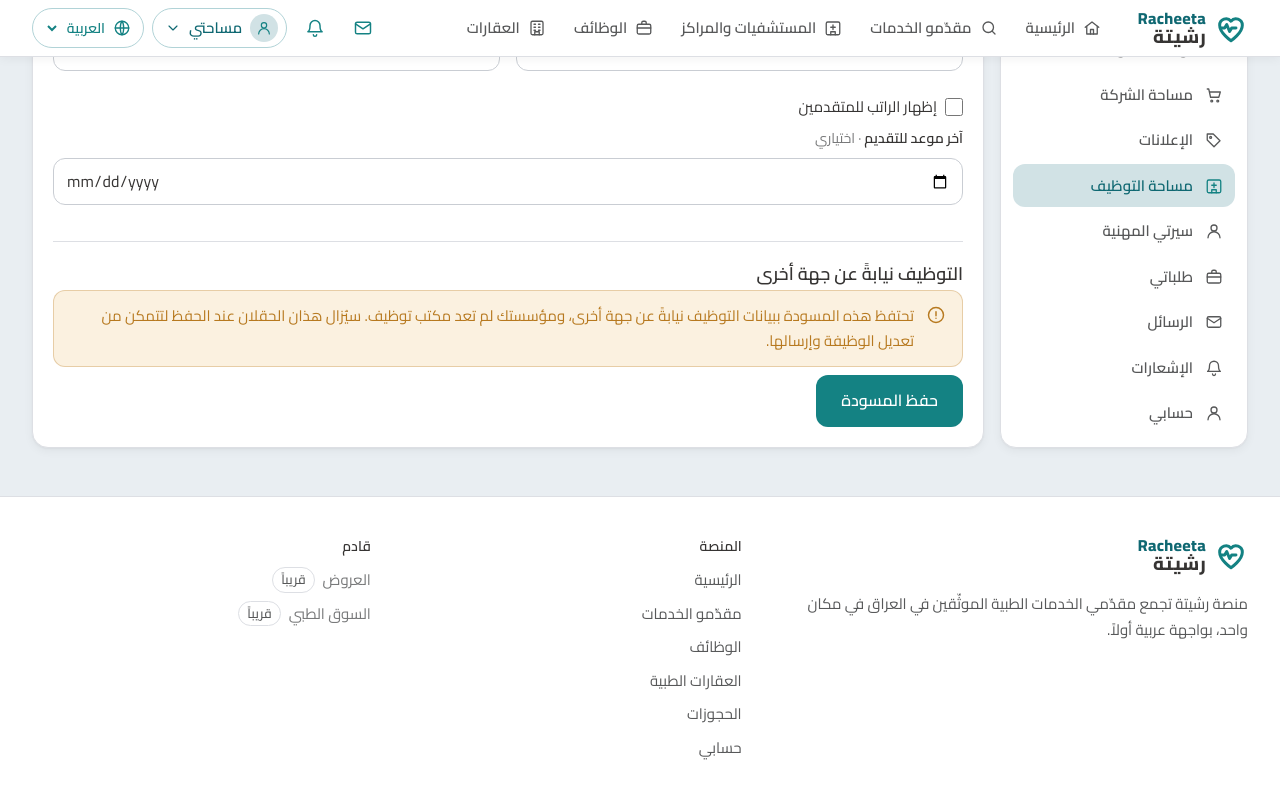
Scenario: JobEditorPage › hiring fields retained by a former agency › keeps the save button disabled while the repair is in flight
The image size is (1280, 800).
(page scrolled)
Step 1. Click the button "حفظ المسودة" → (890, 401), box [816,375,963,427]
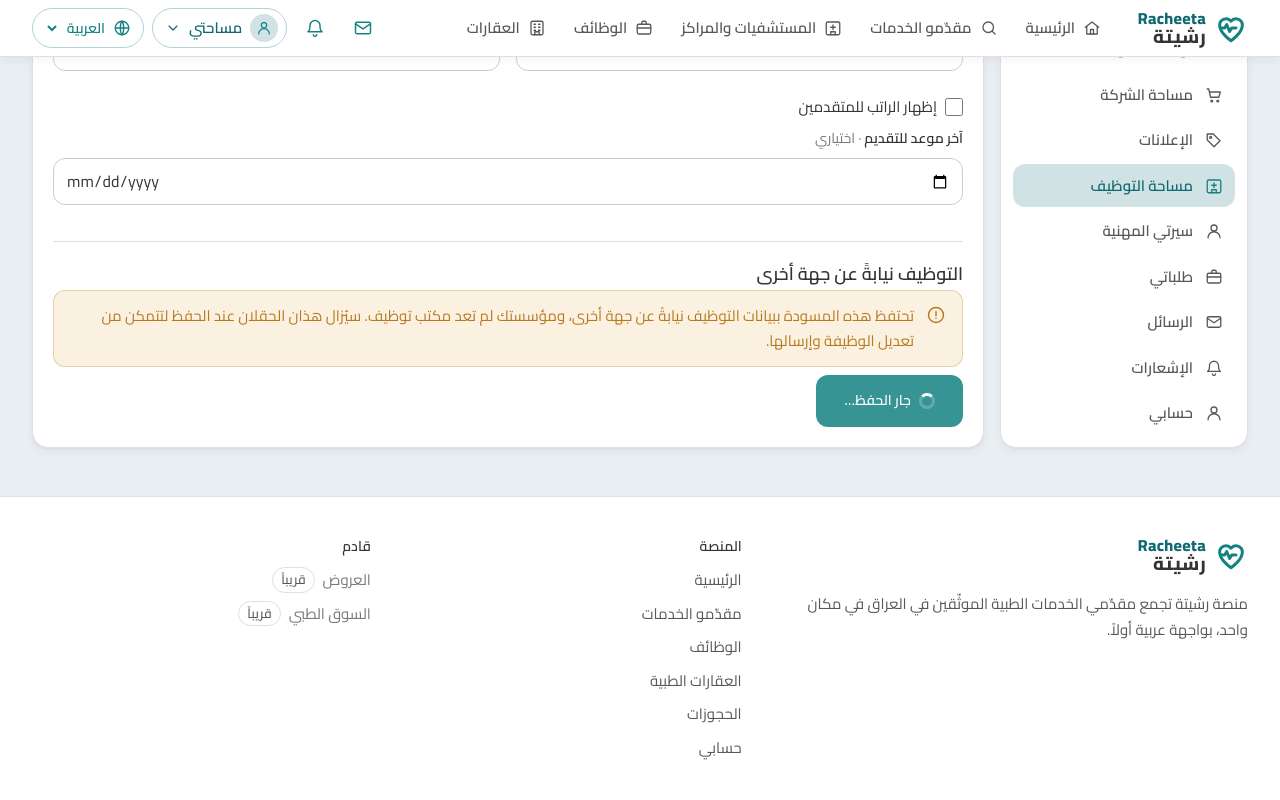
Expected: the button "جارٍ الحفظ…" is disabled
Step 2. Click the button "جارٍ الحفظ…" → (890, 401), box [816,375,963,427]
(page scrolled)
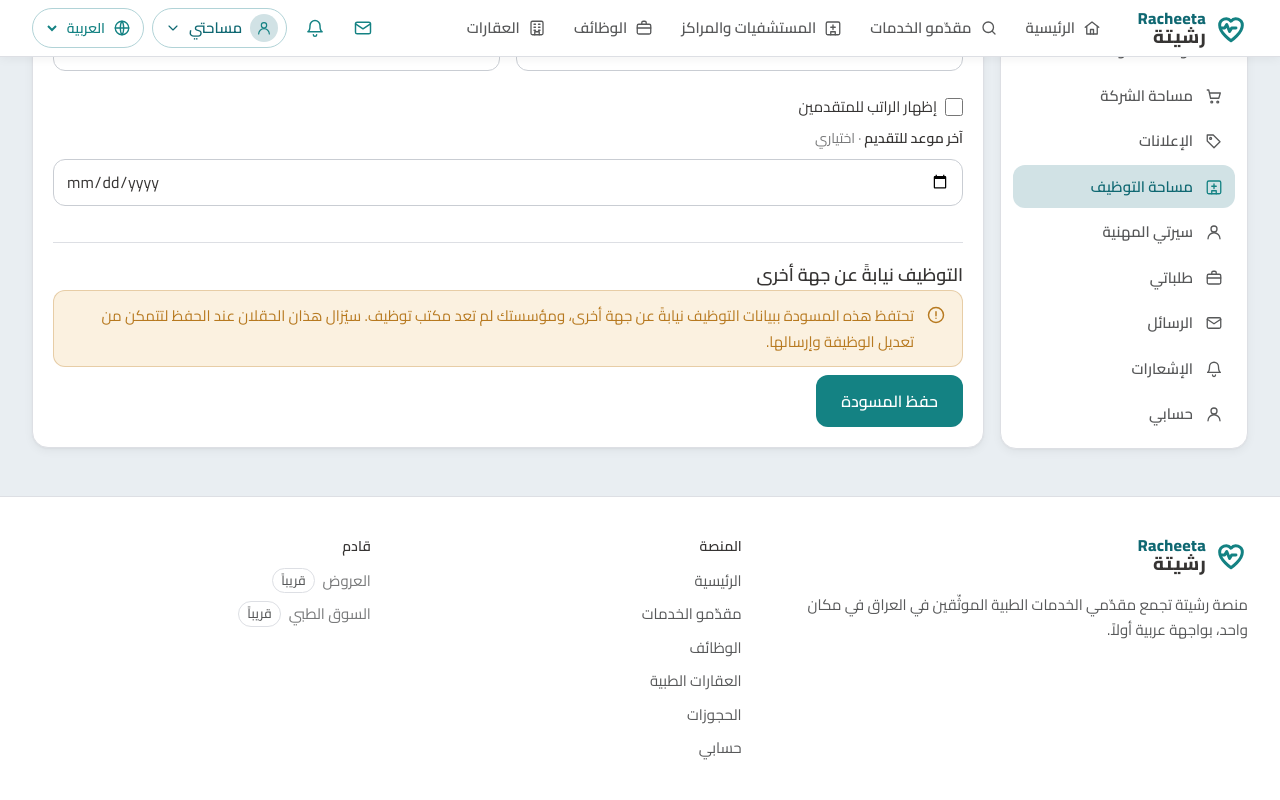
Expected: the button "حفظ المسودة" is enabled, [816,375,963,427]
